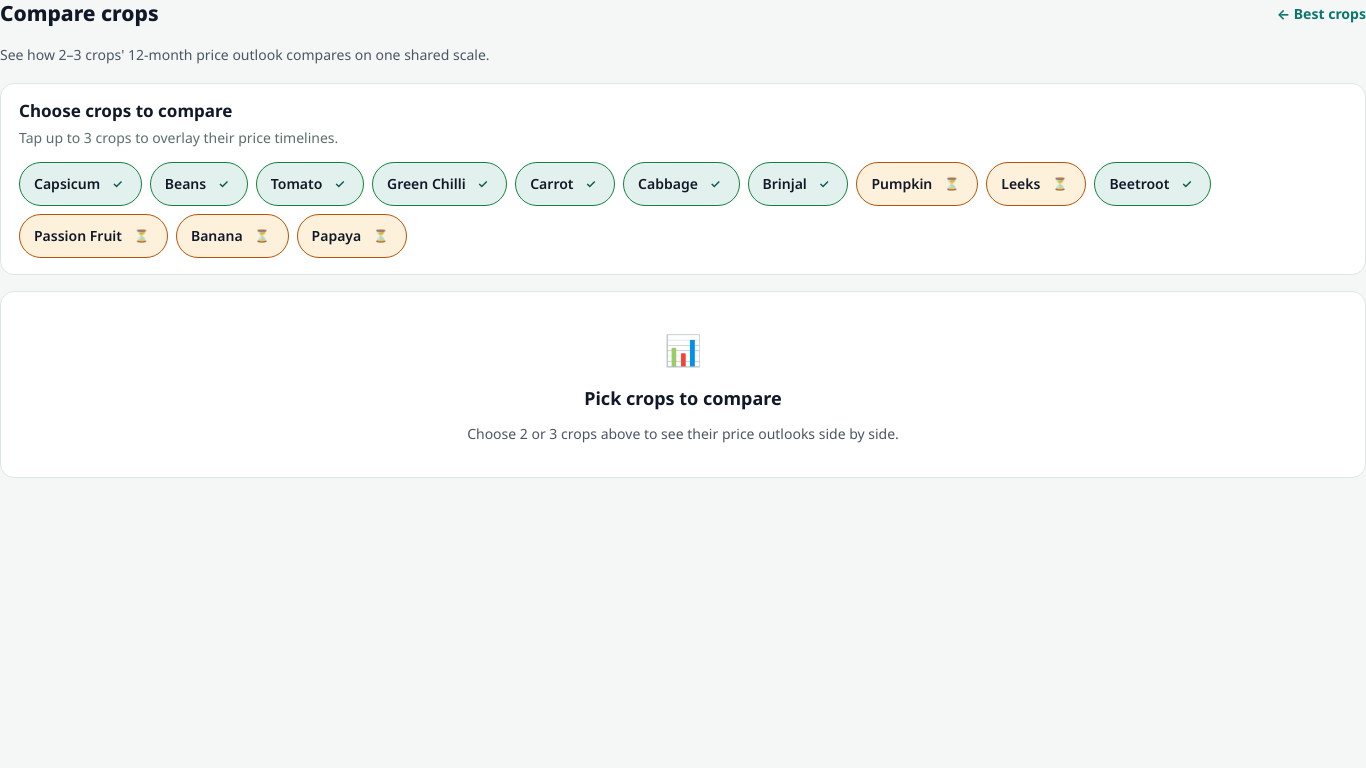
Scenario: CompareCropsPage (FE-14) › enforces the 3-crop cap with an honest note
Click the button "Capsicum ✓" at (80, 184), box [19,162,142,206]
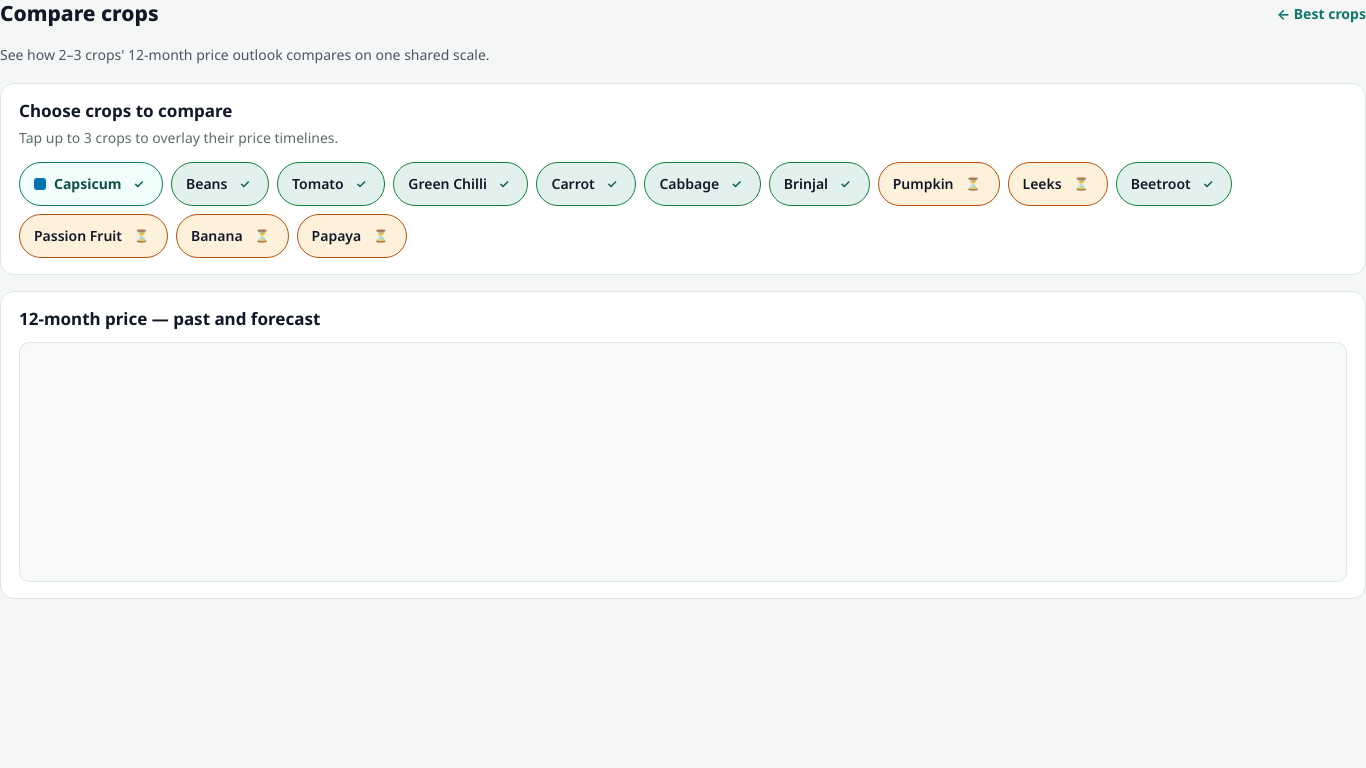
Click the button "Beans ✓" at (220, 184), box [171,162,269,206]
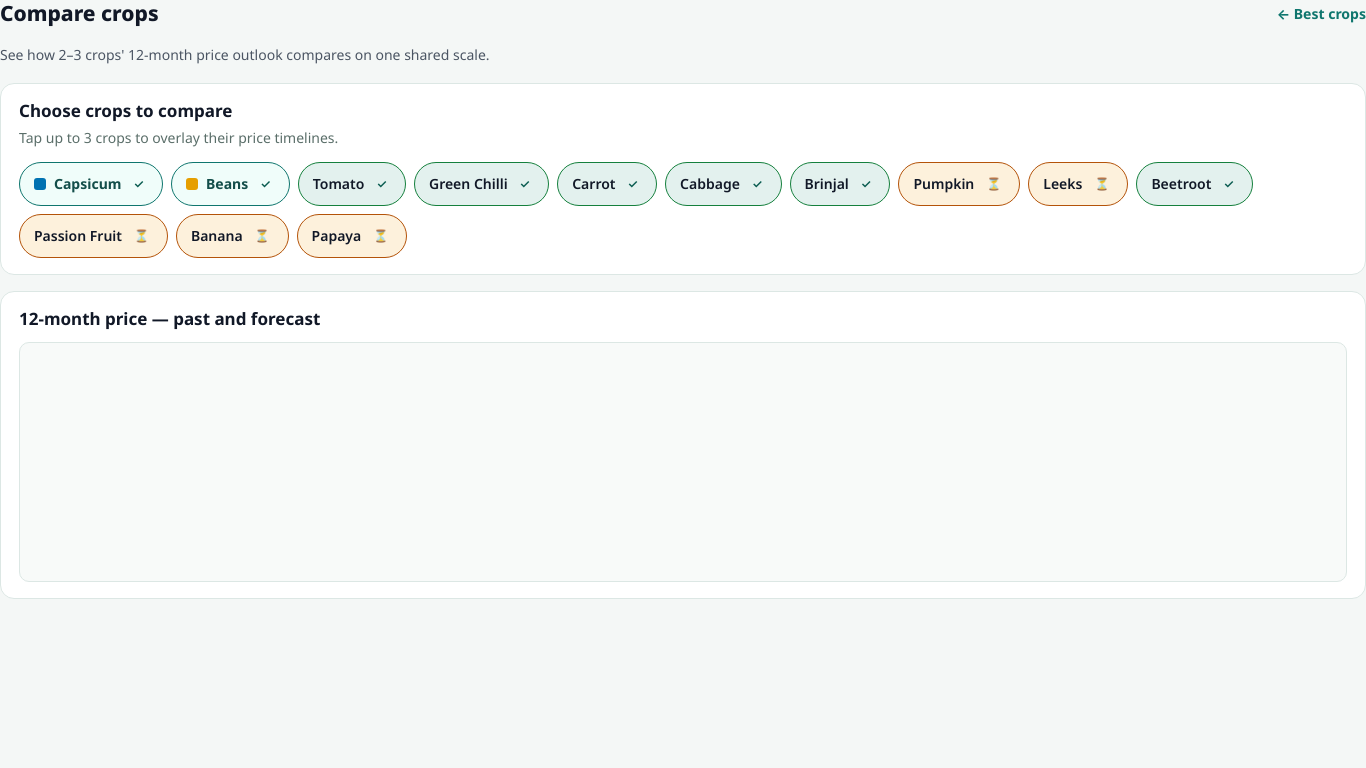
Click the button "Tomato ✓" at (352, 184), box [298,162,406,206]
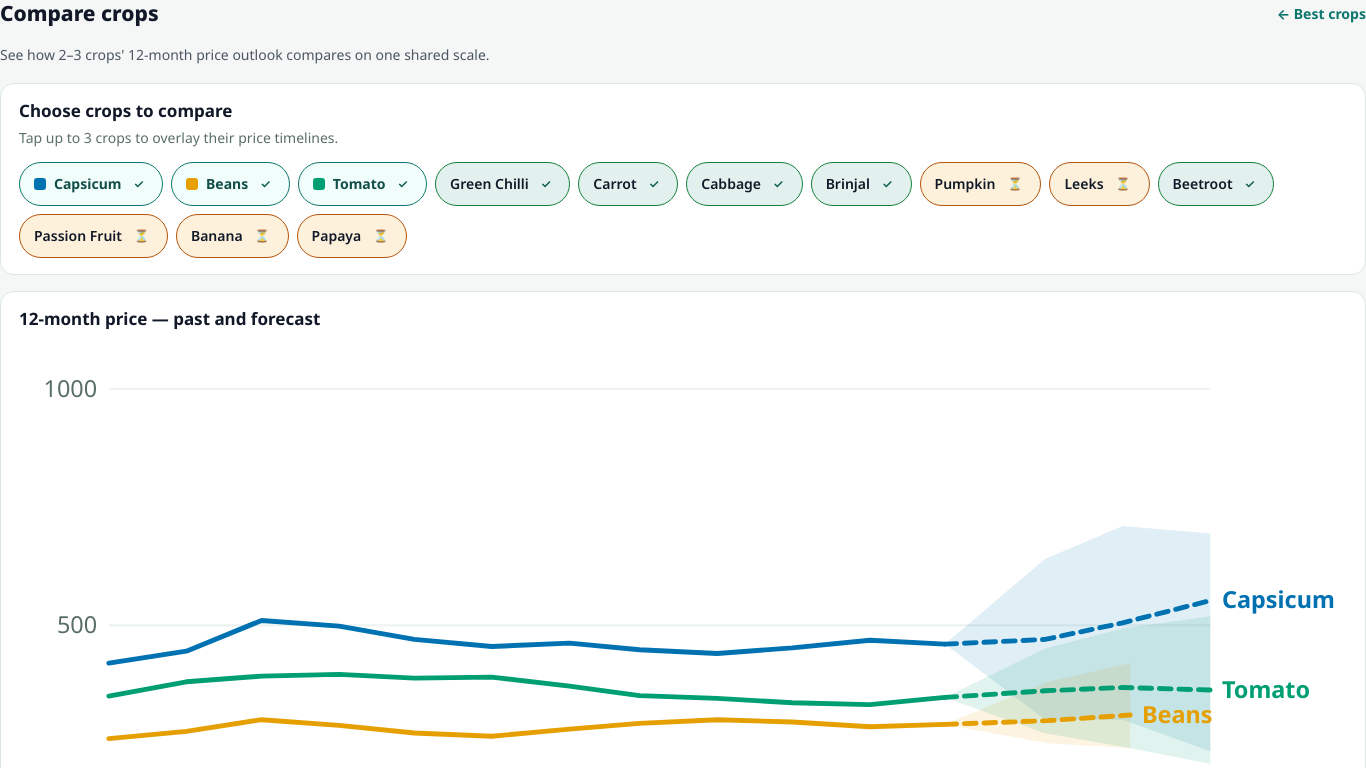
Now the button "Tomato ✓" is pressed, box [298,162,427,206]
fourth pick is refused
Click the button "Carrot ✓" at (628, 184), box [578,162,678,206]
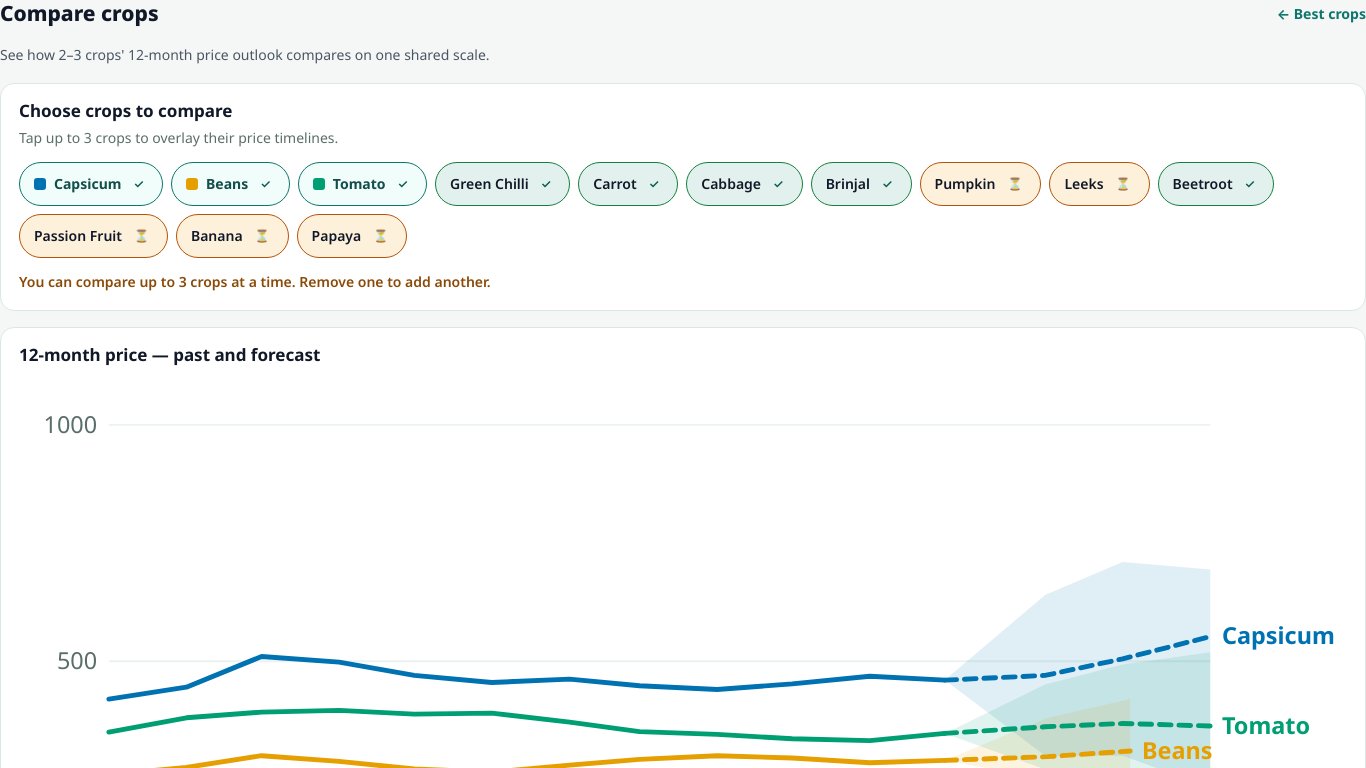
Now the text "You can compare up to 3 crops at a time. Remove one to add another." is shown, box [19,272,491,291]
